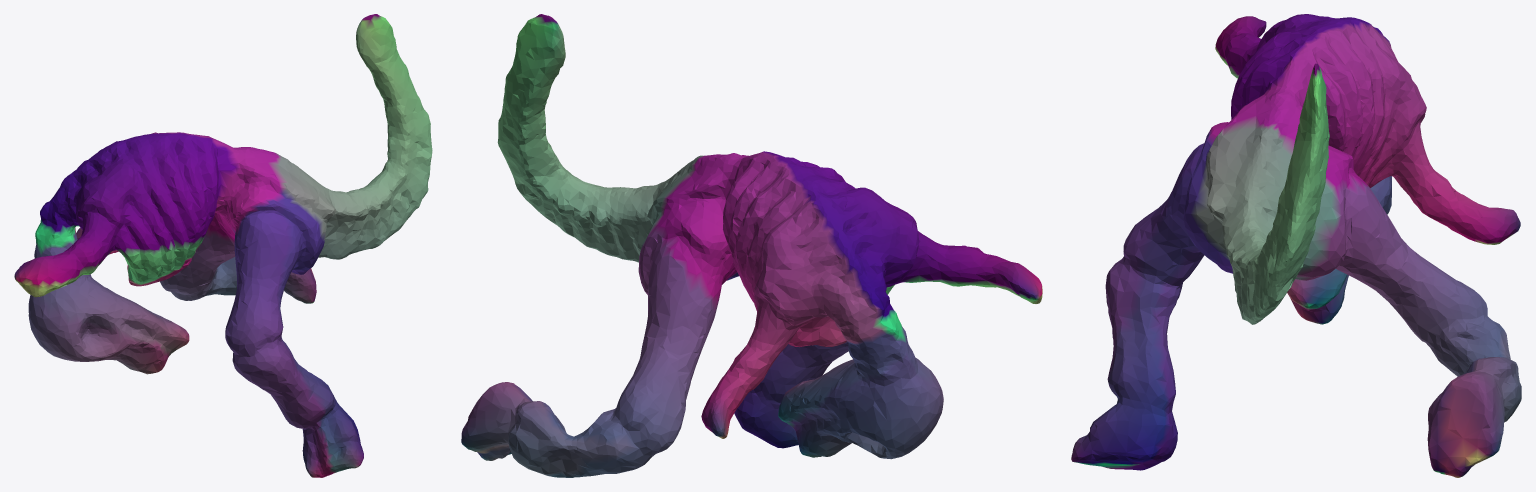
File: dino_skel-9.off.obj
3 views of the same model, side by side, from view 1: azimuth 30°, elevation 25°; view 2: azimuth 150°, elevation 25°; view 3: azimuth 270°, elevation 25° (orthographic). The views are drawn at different scales.
Bounding box in the file's own units: 1.47 × 1.22 × 1.03.
